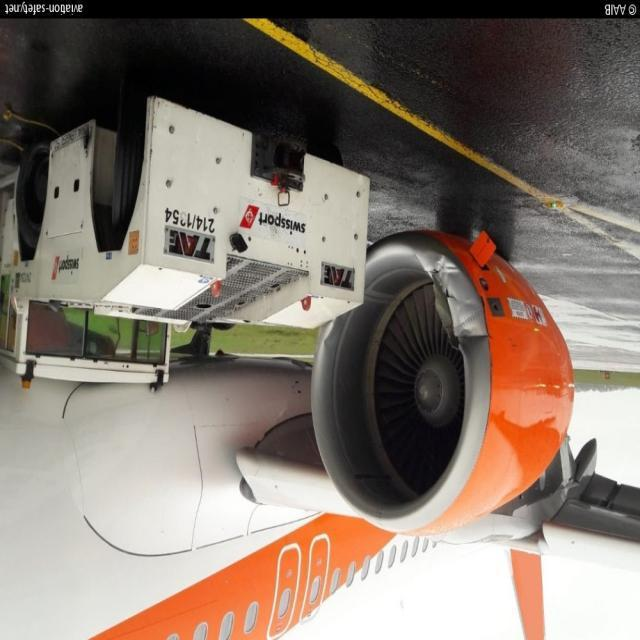crack: (432, 273, 461, 351)
dent: (459, 299, 489, 349), (314, 312, 351, 352), (436, 256, 462, 279)
